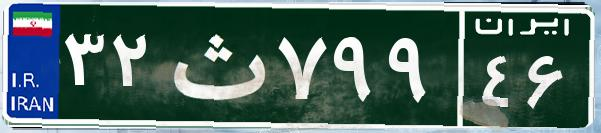2: (110, 28, 158, 105)
3: (57, 26, 110, 107)
4: (475, 38, 525, 113)
6: (525, 38, 570, 115)
7: (273, 28, 330, 110)
9: (385, 28, 445, 110), (330, 28, 385, 110)
ث: (158, 15, 273, 115)
